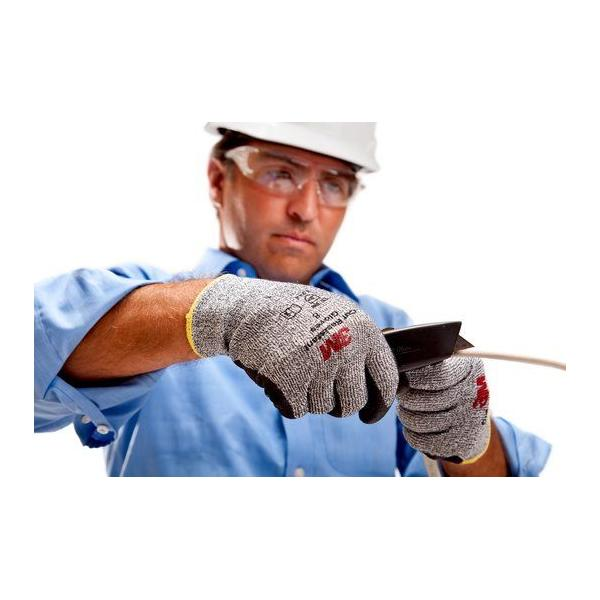3M: (312, 325, 361, 364), (471, 371, 493, 416)
